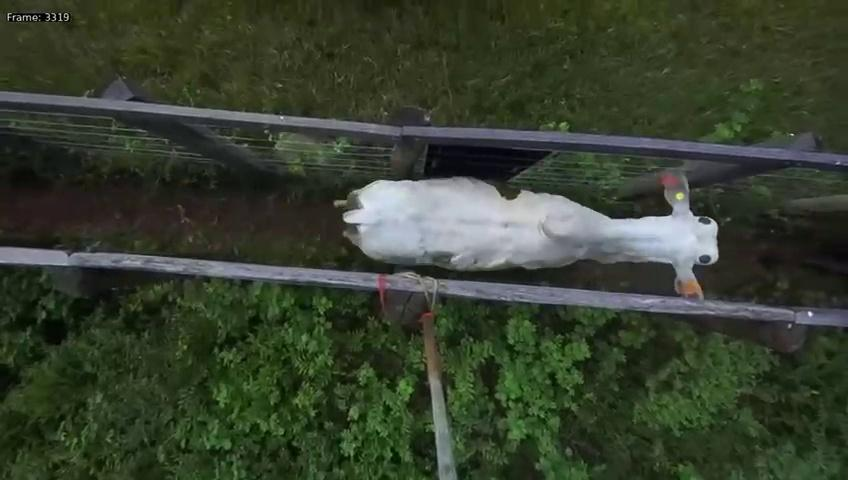cattle: (319, 172, 728, 313)
